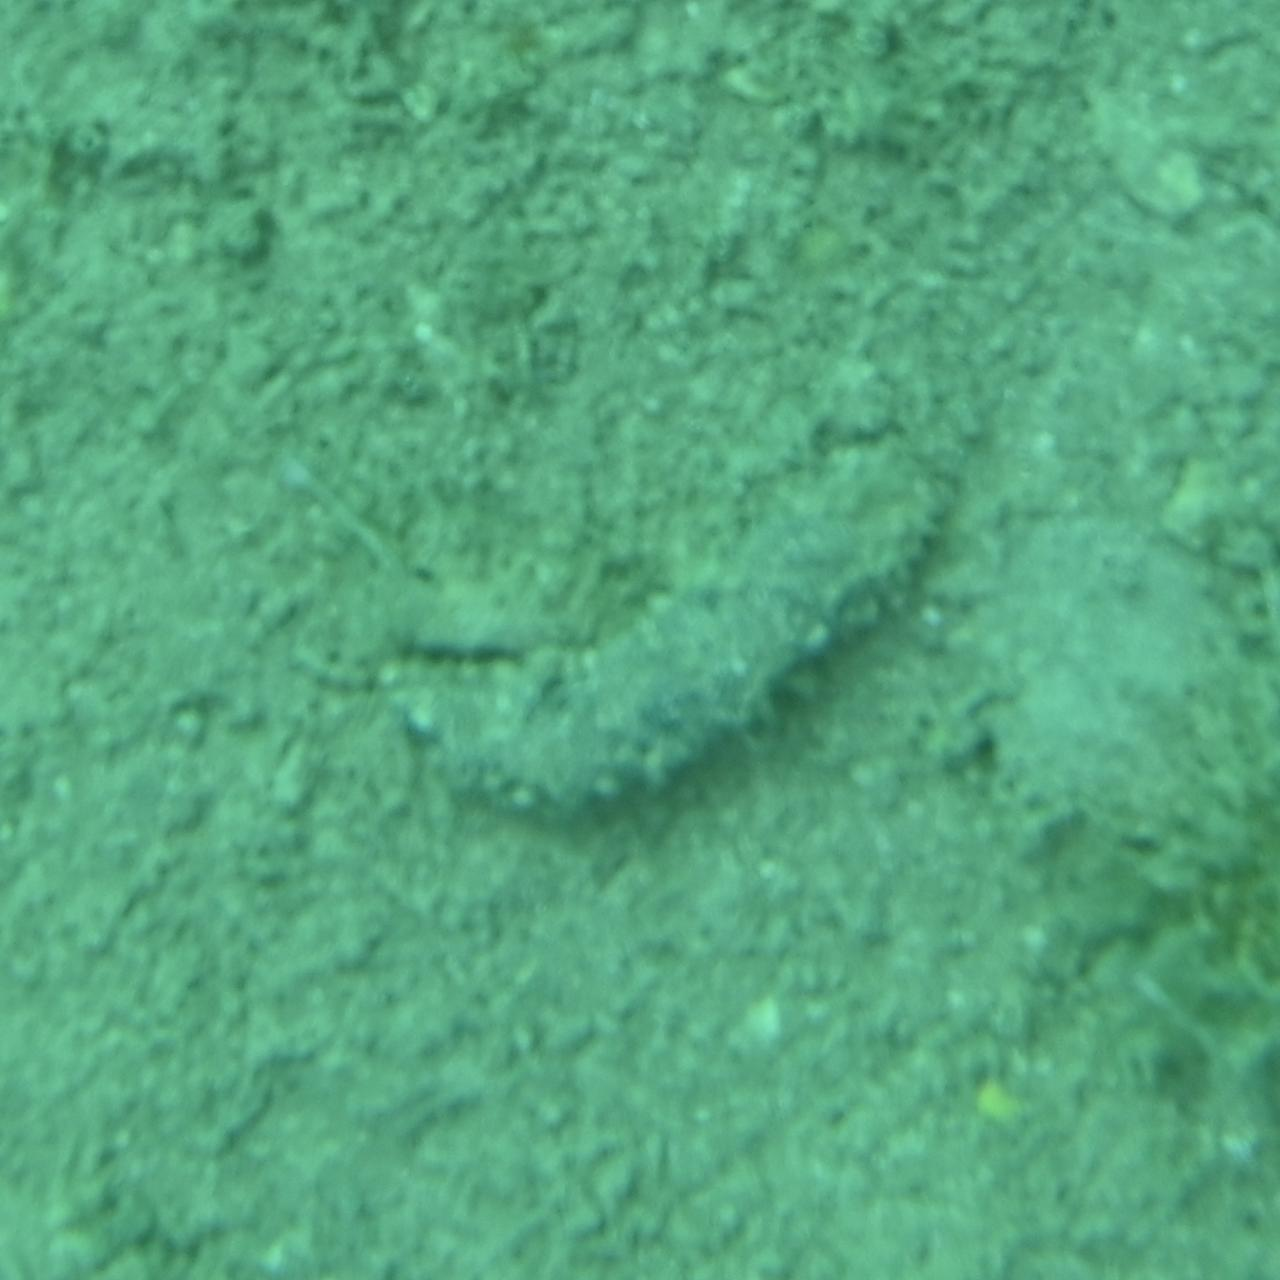Holothuria tubulosa: (333, 428, 947, 852)
